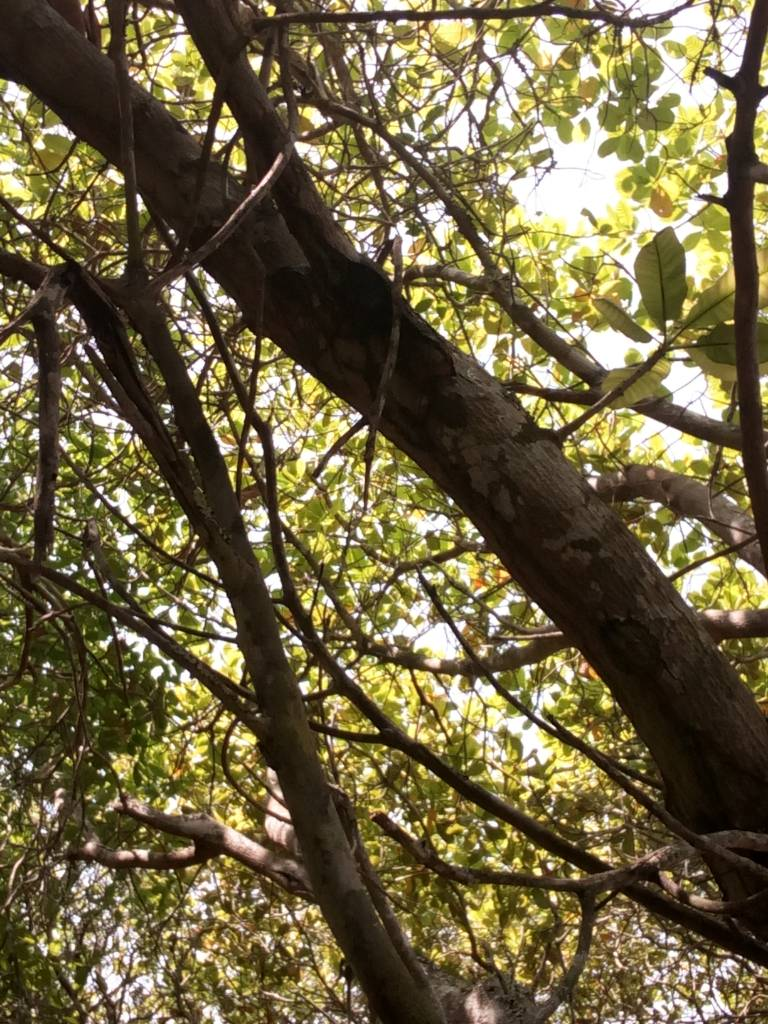Termites: (407, 419, 588, 627), (600, 596, 690, 733)
